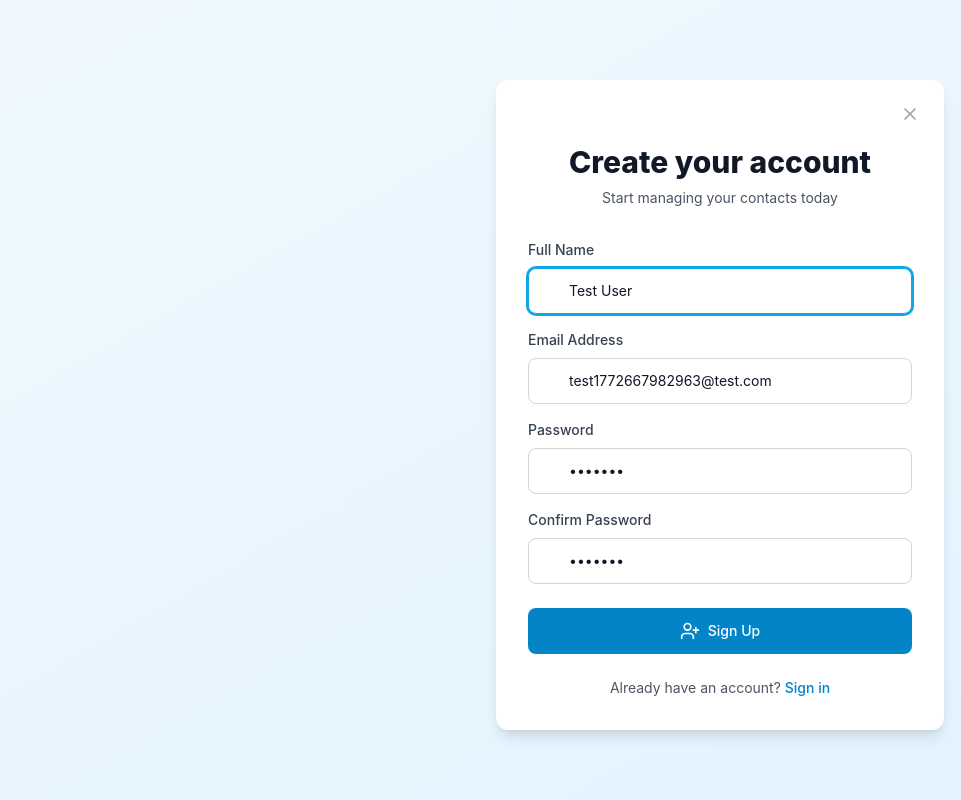
Test case: Signup Integration Tests › should show error if double-click signup fails
The width and height of the screenshot is (961, 800).
Double-click the button "Sign Up" at [720, 631], box [528,608,912,654]
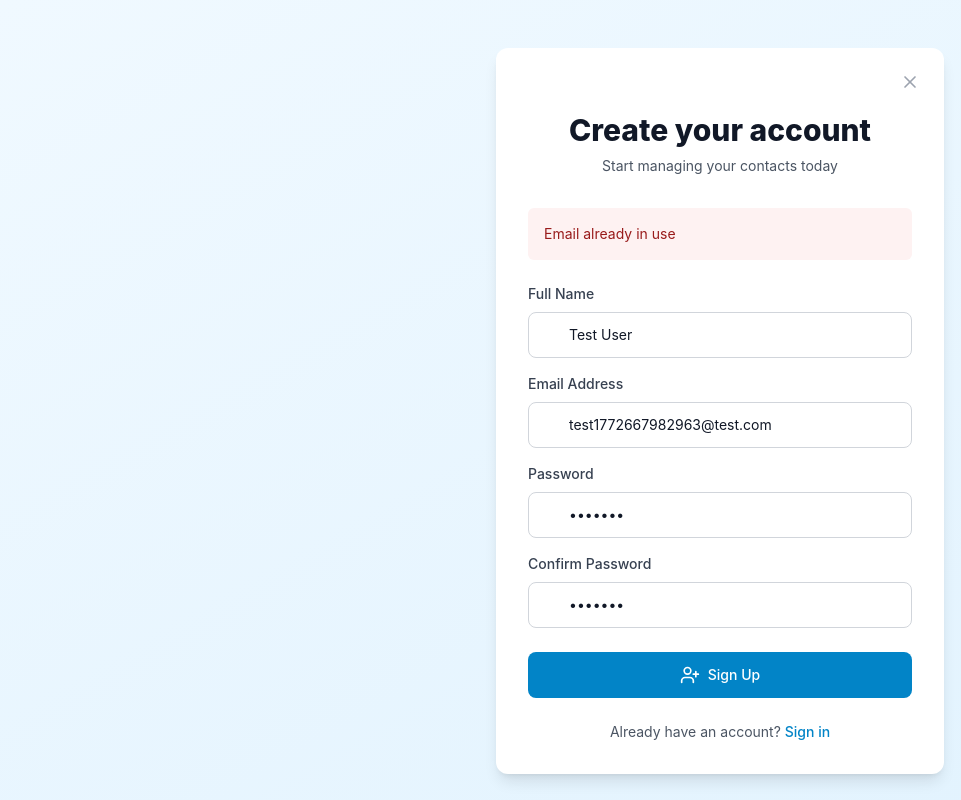
Check: the text "Email already in use" is shown, box [544,225,676,242]
